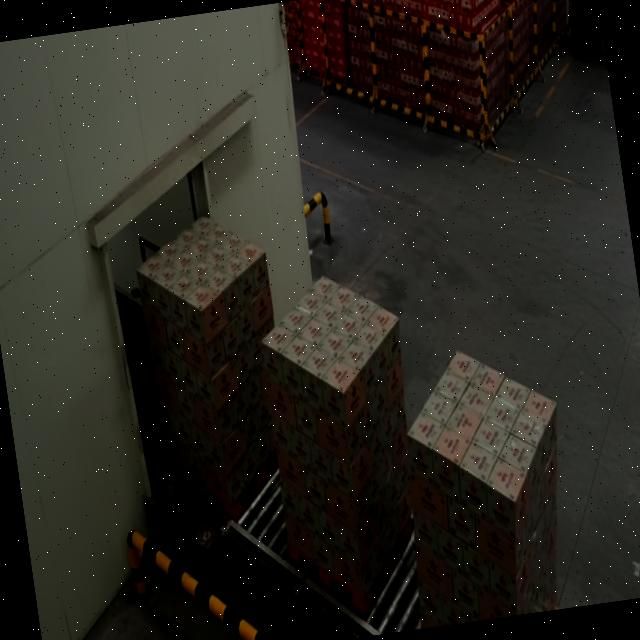pallet: (241, 254, 437, 628), (119, 207, 306, 545), (384, 313, 584, 628)
